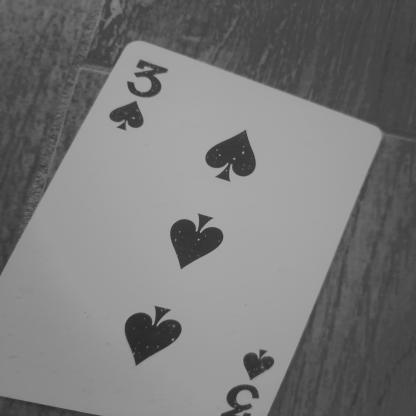3S: (98, 48, 184, 134), (215, 338, 285, 416)
